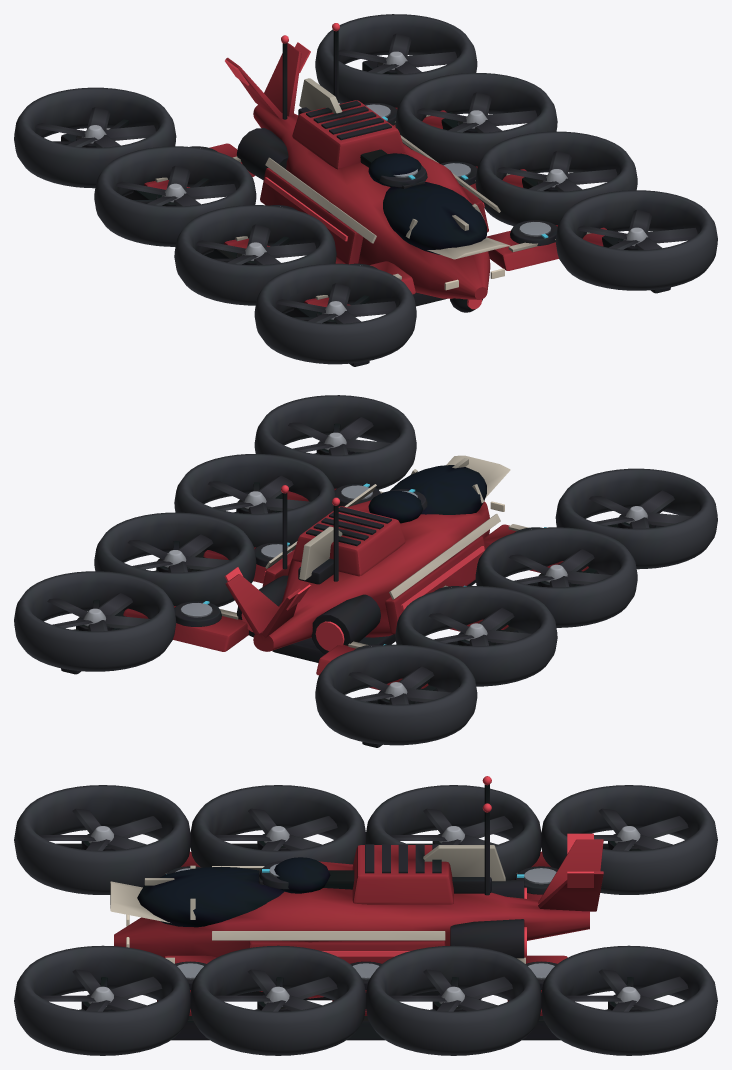
The model's file is ex_gunship_11.glb.
The picture shows the model from 3 angles, top to bottom: view 1: azimuth 30°, elevation 25°; view 2: azimuth 150°, elevation 25°; view 3: azimuth 270°, elevation 25°; orthographic projection. The views are drawn at different scales.
Visible parts, largest first — view 1: body, rotor_2, rotor_6, rotor_3, rotor_4, rotor_7, rotor_1, rotor_5, rotor_0; view 2: body, rotor_6, rotor_3, rotor_0, rotor_4, rotor_1, rotor_7, rotor_5, rotor_2; view 3: body, rotor_1, rotor_3, rotor_0, rotor_2, rotor_7, rotor_6, rotor_4, rotor_5.
Part boxes in pixels (<box>): body: <box>14,14,717,366</box>; rotor_2: <box>497,151,617,191</box>; rotor_6: <box>196,224,316,265</box>; rotor_3: <box>577,209,697,250</box>; rotor_4: <box>35,107,155,147</box>; rotor_7: <box>276,283,396,323</box>; rotor_1: <box>417,92,537,132</box>; rotor_5: <box>115,165,235,206</box>; rotor_0: <box>338,33,456,74</box>; body: <box>14,395,717,747</box>; rotor_6: <box>509,549,611,587</box>; rotor_3: <box>288,417,390,455</box>; rotor_0: <box>47,593,150,631</box>; rotor_4: <box>348,666,451,704</box>; rotor_1: <box>127,534,230,572</box>; rotor_7: <box>589,490,692,528</box>; rotor_5: <box>428,607,531,646</box>; rotor_2: <box>208,475,310,513</box>; body: <box>14,776,717,1055</box>; rotor_1: <box>389,969,512,1011</box>; rotor_3: <box>38,969,162,1011</box>; rotor_0: <box>565,969,688,1011</box>; rotor_2: <box>214,969,337,1011</box>; rotor_7: <box>39,808,162,850</box>; rotor_6: <box>214,808,337,850</box>; rotor_4: <box>565,808,688,850</box>; rotor_5: <box>389,808,512,845</box>.
Size of the model in its own units: 14.53 by 5.43 by 18.33.
